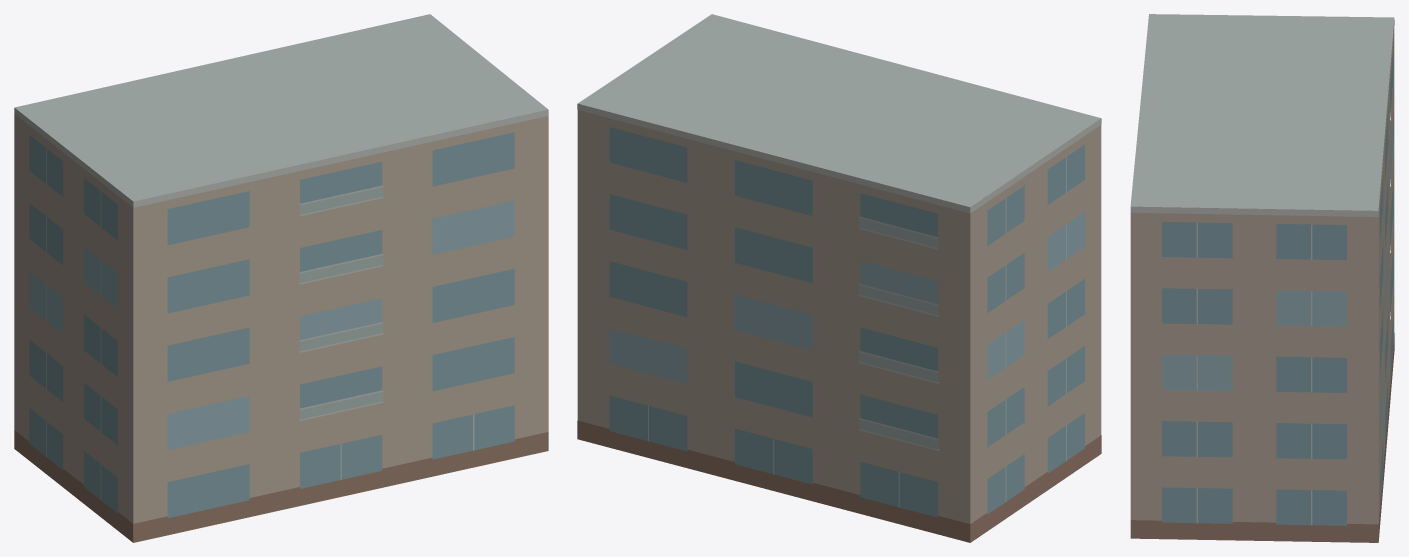
The model's file is survey-upis-32874543.glb.
3 views of the same model, side by side, from view 1: azimuth 30°, elevation 25°; view 2: azimuth 150°, elevation 25°; view 3: azimuth 270°, elevation 25° (orthographic). The views are drawn at different scales.
Visible parts, largest first — view 1: survey-upis-32874543.tmp; view 2: survey-upis-32874543.tmp; view 3: survey-upis-32874543.tmp.
Part boxes in pixels (x1,y1,x2,y2): survey-upis-32874543.tmp: (14, 14, 548, 542); survey-upis-32874543.tmp: (577, 14, 1101, 542); survey-upis-32874543.tmp: (1130, 14, 1394, 542).
Bounding box in the file's own units: 16.8 × 13.2 × 9.53.
